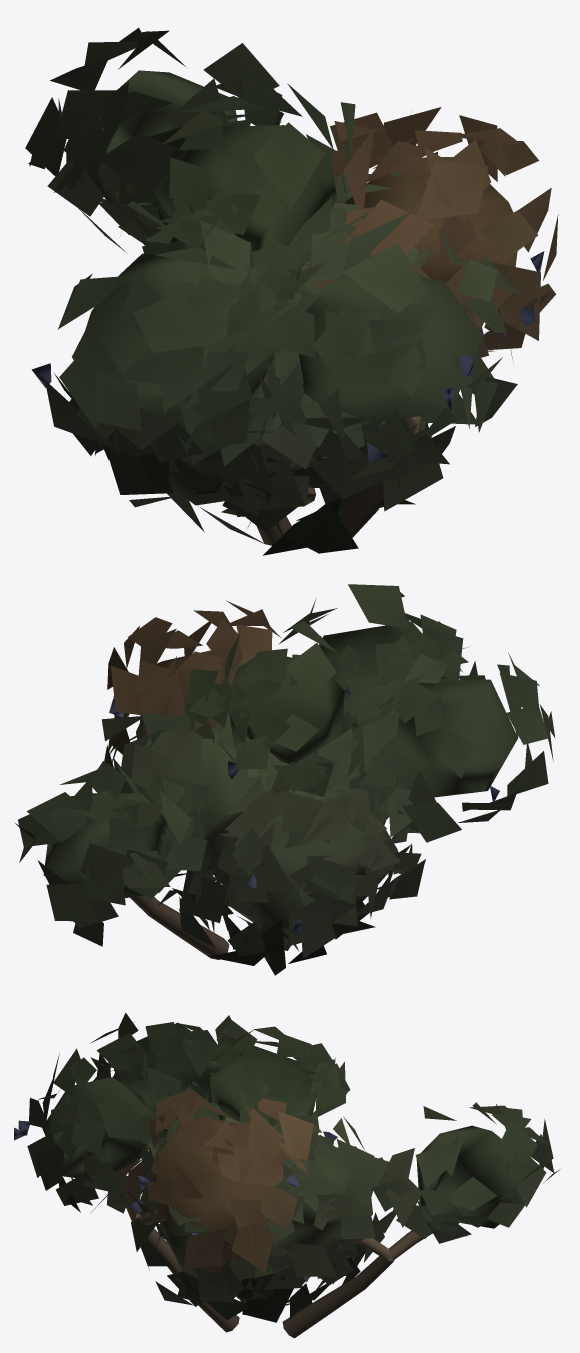
The model's file is calafate_b.glb.
3 renders of one model, top to bottom at view 1: azimuth 30°, elevation 25°; view 2: azimuth 150°, elevation 25°; view 3: azimuth 270°, elevation 25°, orthographic. The views are drawn at different scales.
Visible parts, largest first — view 1: CalafateBHojas, CalafateBCopa, CalafateBTronco; view 2: CalafateBHojas, CalafateBCopa, CalafateBTronco; view 3: CalafateBHojas, CalafateBCopa, CalafateBTronco.
Boxes of the visible parts, x1,y1,x2,y2 form: CalafateBHojas: (25,27,558,555); CalafateBCopa: (31,70,544,505); CalafateBTronco: (256,416,422,545); CalafateBHojas: (15,584,555,975); CalafateBCopa: (43,618,517,935); CalafateBTronco: (130,895,290,959); CalafateBHojas: (27,1013,560,1322); CalafateBCopa: (14,1022,540,1302); CalafateBTronco: (126,1203,432,1338).
Bounding box in the file's own units: 1.35 × 1.04 × 1.87.
